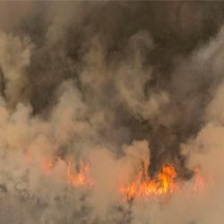fire: (123, 168, 190, 192)
smoke: (5, 11, 219, 221)
